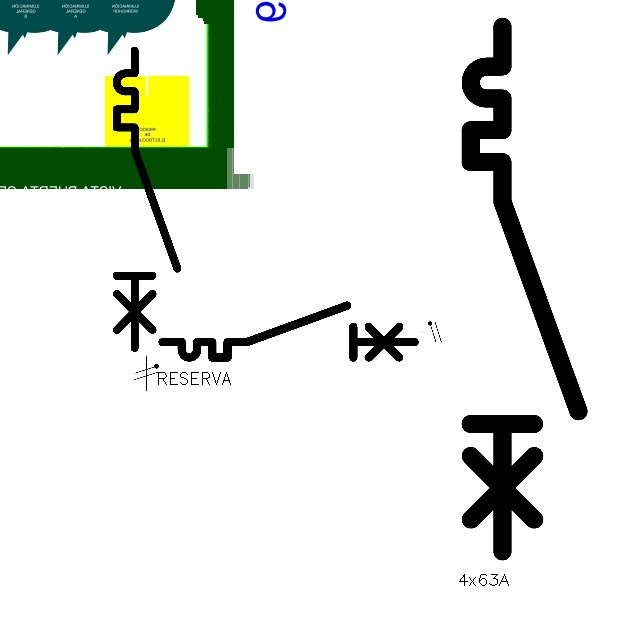interruptor_termomagnetico: (457, 13, 592, 565), (109, 43, 185, 356), (156, 299, 421, 364)
